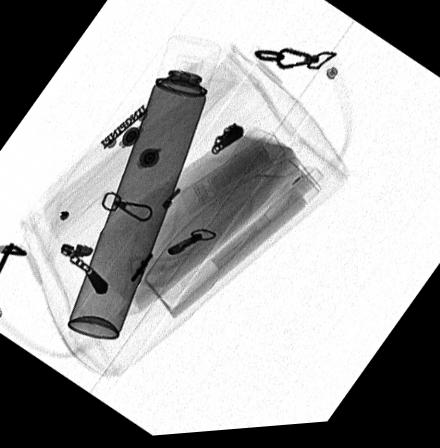Sprayer: (65, 37, 220, 341)
